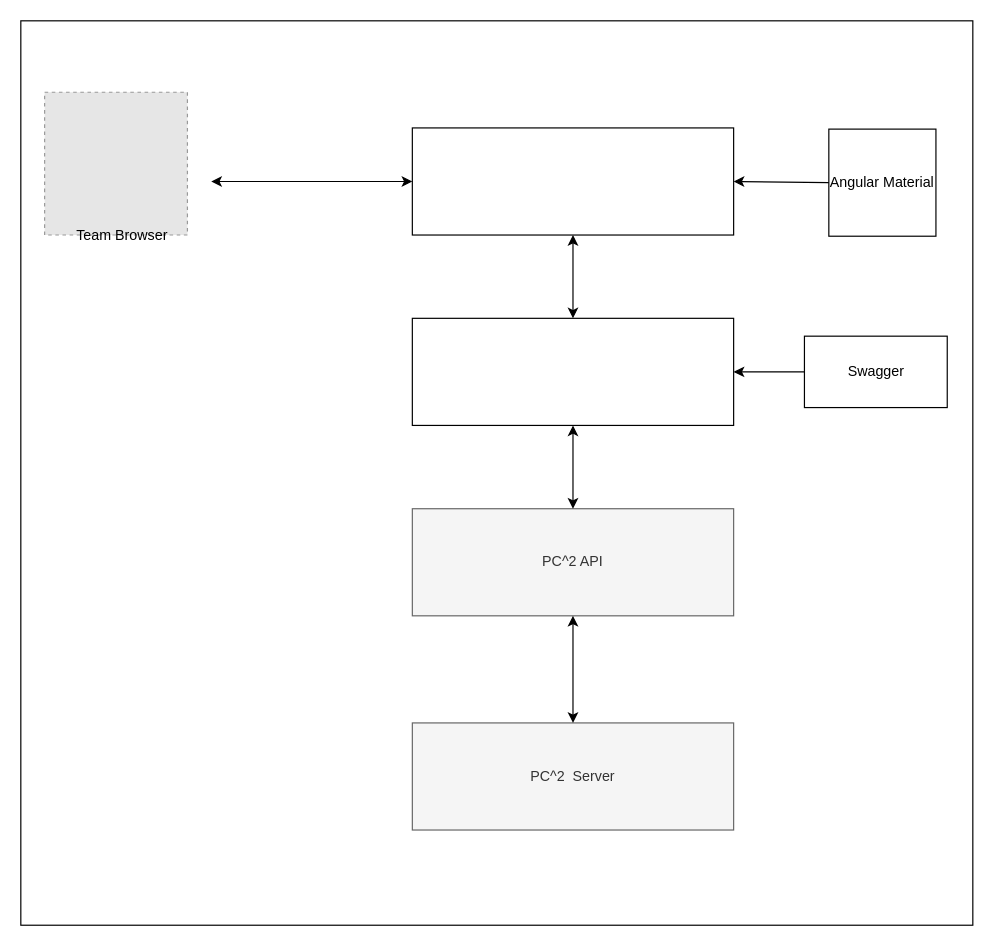
Some shapes in this 994 by 946 pixel diagram are drawn without their labels. Grey dashed boxes stand in for pictures. Here are the shapes that lost their labels. From the top down, the centre of each, then its label:
point 572,181: WTI User Interface (Angular & HTML)
point 572,371: WTI API
